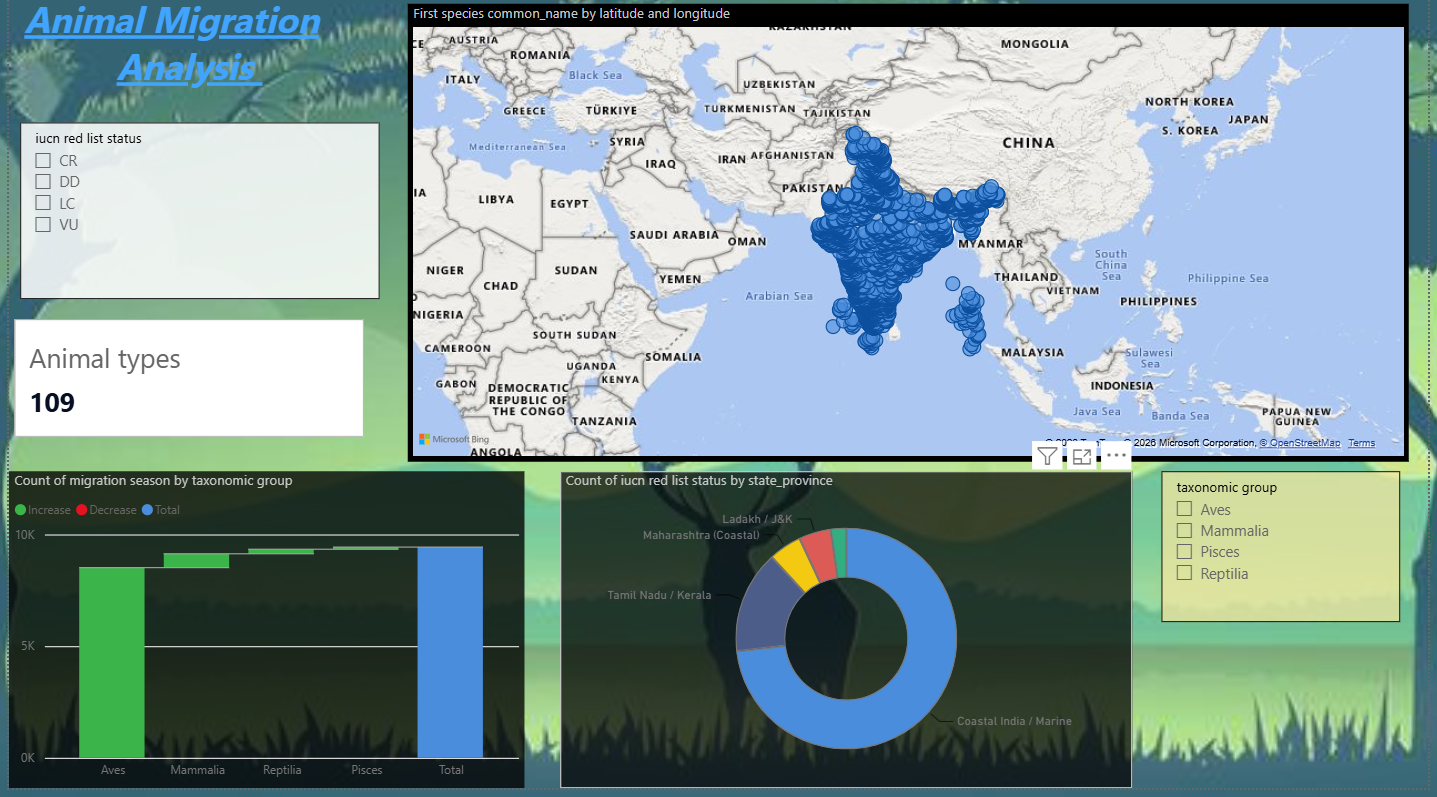

This screenshot's page, from the dashboard's own definition file:
{"tool":"powerbi","page":{"name":"Page 1","canvas":[1280,720],"ordinal":0},"visuals":[{"type":"map","fields":{"Y":["india_cms_final_master_enriched.latitude"],"X":["india_cms_final_master_enriched.longitude"]},"box":[360,12.5,902.5,412.5],"z":0},{"type":"slicer","fields":{"Values":["india_cms_final_master_enriched.iucn_red_list_status"]},"box":[9.8,119.8,324.1,159],"z":1000},{"type":"cardVisual","fields":{"Data":["india_cms_final_master_enriched.Animal_types"]},"box":[0,291.9,325.7,116.2],"z":2000},{"type":"donutChart","fields":{"Category":["india_cms_final_master_enriched.state_province"],"Y":["CountNonNull(india_cms_final_master_enriched.iucn_red_list_status)"]},"box":[496.5,433.7,516.3,286],"z":3000},{"type":"textbox","box":[0,0,325.6,110],"z":4000},{"type":"slicer","fields":{"Values":["india_cms_final_master_enriched.taxonomic_group"]},"box":[1039.5,433.7,215.1,136],"z":5000},{"type":"waterfallChart","fields":{"Category":["india_cms_final_master_enriched.taxonomic_group"],"Y":["CountNonNull(india_cms_final_master_enriched.migration_season)"]},"box":[0,433.7,465.1,286],"z":6000}]}

Visuals, with their boxes in screenshot pixels (x1, y1, x2, y2), scaled from the page's 1280x720 canvas onto the 1437x797 screenshot:
map - india_cms_final_master_enriched.latitude x india_cms_final_master_enriched.longitude: pyautogui.locateOnScreen(404, 14, 1417, 470)
slicer - india_cms_final_master_enriched.iucn_red_list_status: pyautogui.locateOnScreen(11, 133, 375, 309)
cardVisual - india_cms_final_master_enriched.Animal_types: pyautogui.locateOnScreen(0, 323, 366, 452)
donutChart - india_cms_final_master_enriched.state_province x CountNonNull(india_cms_final_master_enriched.iucn_red_list_status): pyautogui.locateOnScreen(557, 480, 1137, 796)
textbox: pyautogui.locateOnScreen(0, 0, 366, 122)
slicer - india_cms_final_master_enriched.taxonomic_group: pyautogui.locateOnScreen(1167, 480, 1408, 631)
waterfallChart - india_cms_final_master_enriched.taxonomic_group x CountNonNull(india_cms_final_master_enriched.migration_season): pyautogui.locateOnScreen(0, 480, 522, 796)
